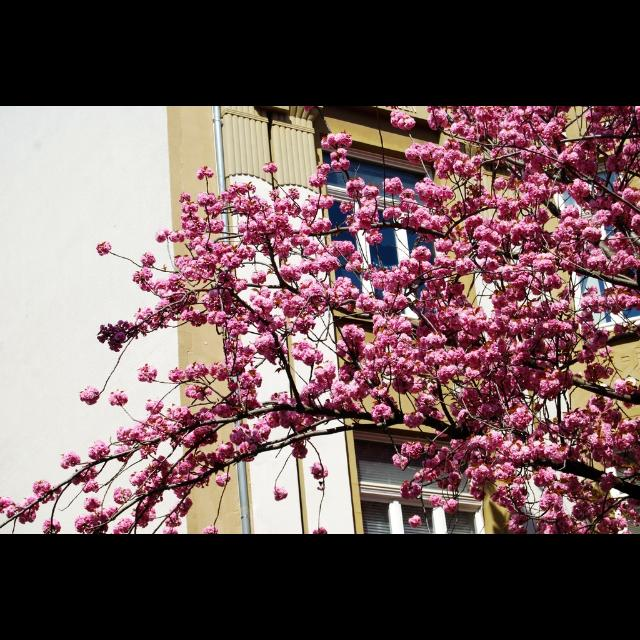Flower: (1, 106, 640, 534)
